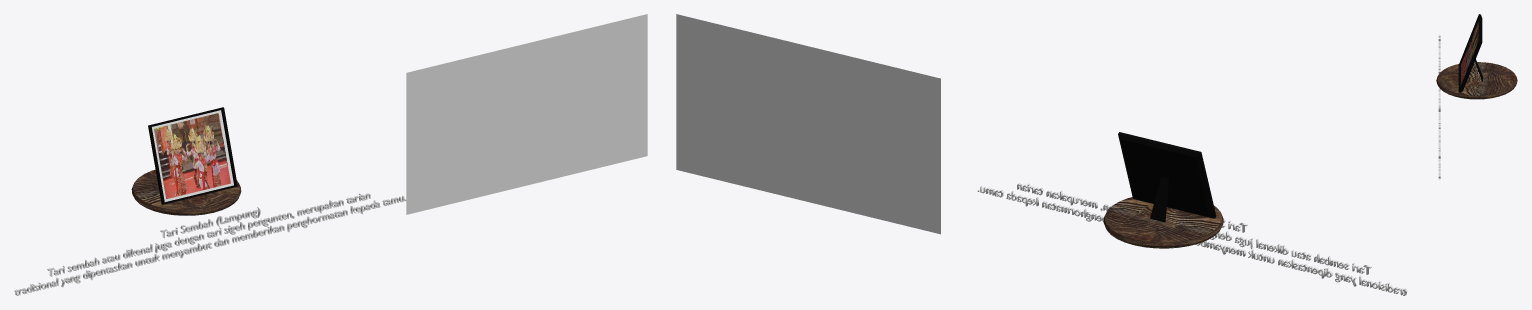
File: 10. Tari Sembah (Lampung).fbx
3 renders of one model, left to right at view 1: azimuth 30°, elevation 25°; view 2: azimuth 150°, elevation 25°; view 3: azimuth 270°, elevation 25°, orthographic. The views are drawn at different scales.
Visible parts, largest first — view 1: Plane, Cube.033, Text; view 2: Plane, Cube.033, Text; view 3: Cube.033, Text.
Boxes of the visible parts, x1=… form: Plane: x1=406, y1=14, x2=647, y2=214; Cube.033: x1=131, y1=107, x2=241, y2=215; Text: x1=14, y1=193, x2=406, y2=295; Plane: x1=676, y1=14, x2=940, y2=234; Cube.033: x1=1103, y1=132, x2=1223, y2=248; Text: x1=977, y1=183, x2=1407, y2=295; Cube.033: x1=1436, y1=14, x2=1517, y2=99; Text: x1=1438, y1=34, x2=1440, y2=179.
Size of the model in its own units: 8609 by 1806 by 1260.
Materials: 6 (3 with a texture image).
